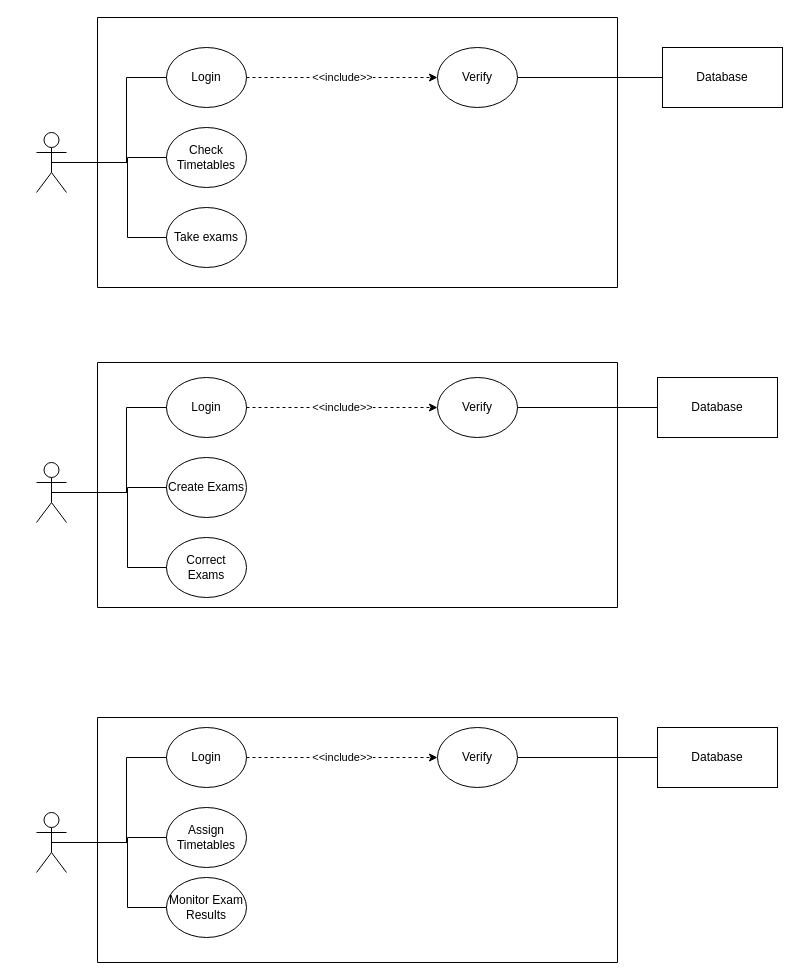
Some shapes in this 800 by 980 pixel diagram are drawn without their labels. The box of each missing label's shape, as (x1, y1, x2, y2) in pixels:
Exam Coordinators: (36, 812, 66, 872)
Students: (36, 132, 66, 192)
Teachers: (36, 462, 66, 522)
